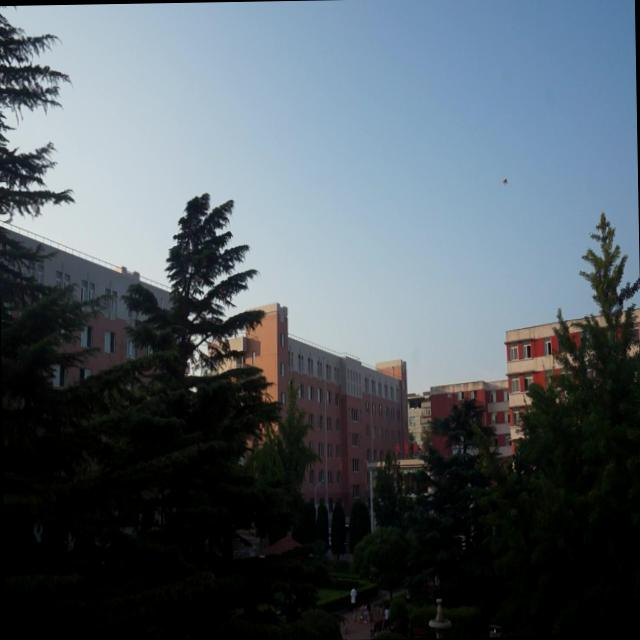drone: (500, 174, 509, 188)
